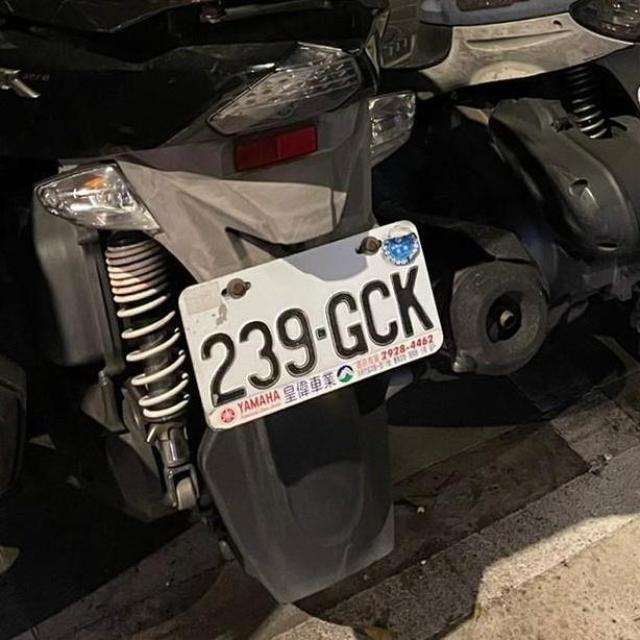W: (169, 208, 463, 437)
